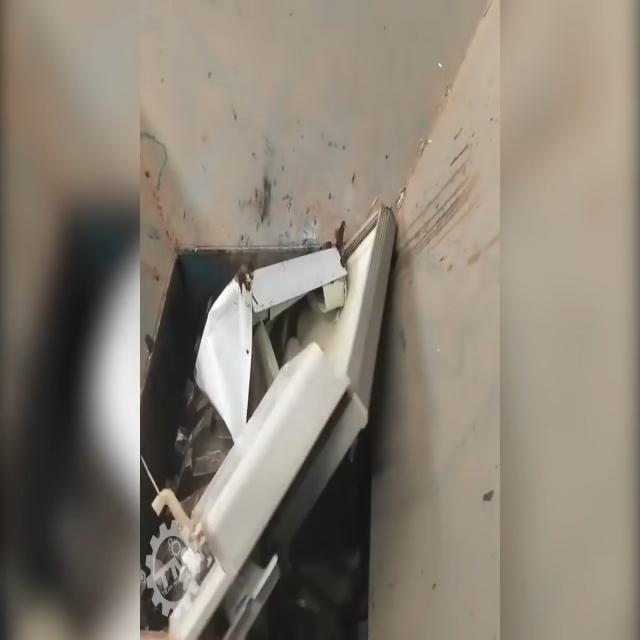Broyeur: (139, 202, 412, 640)
